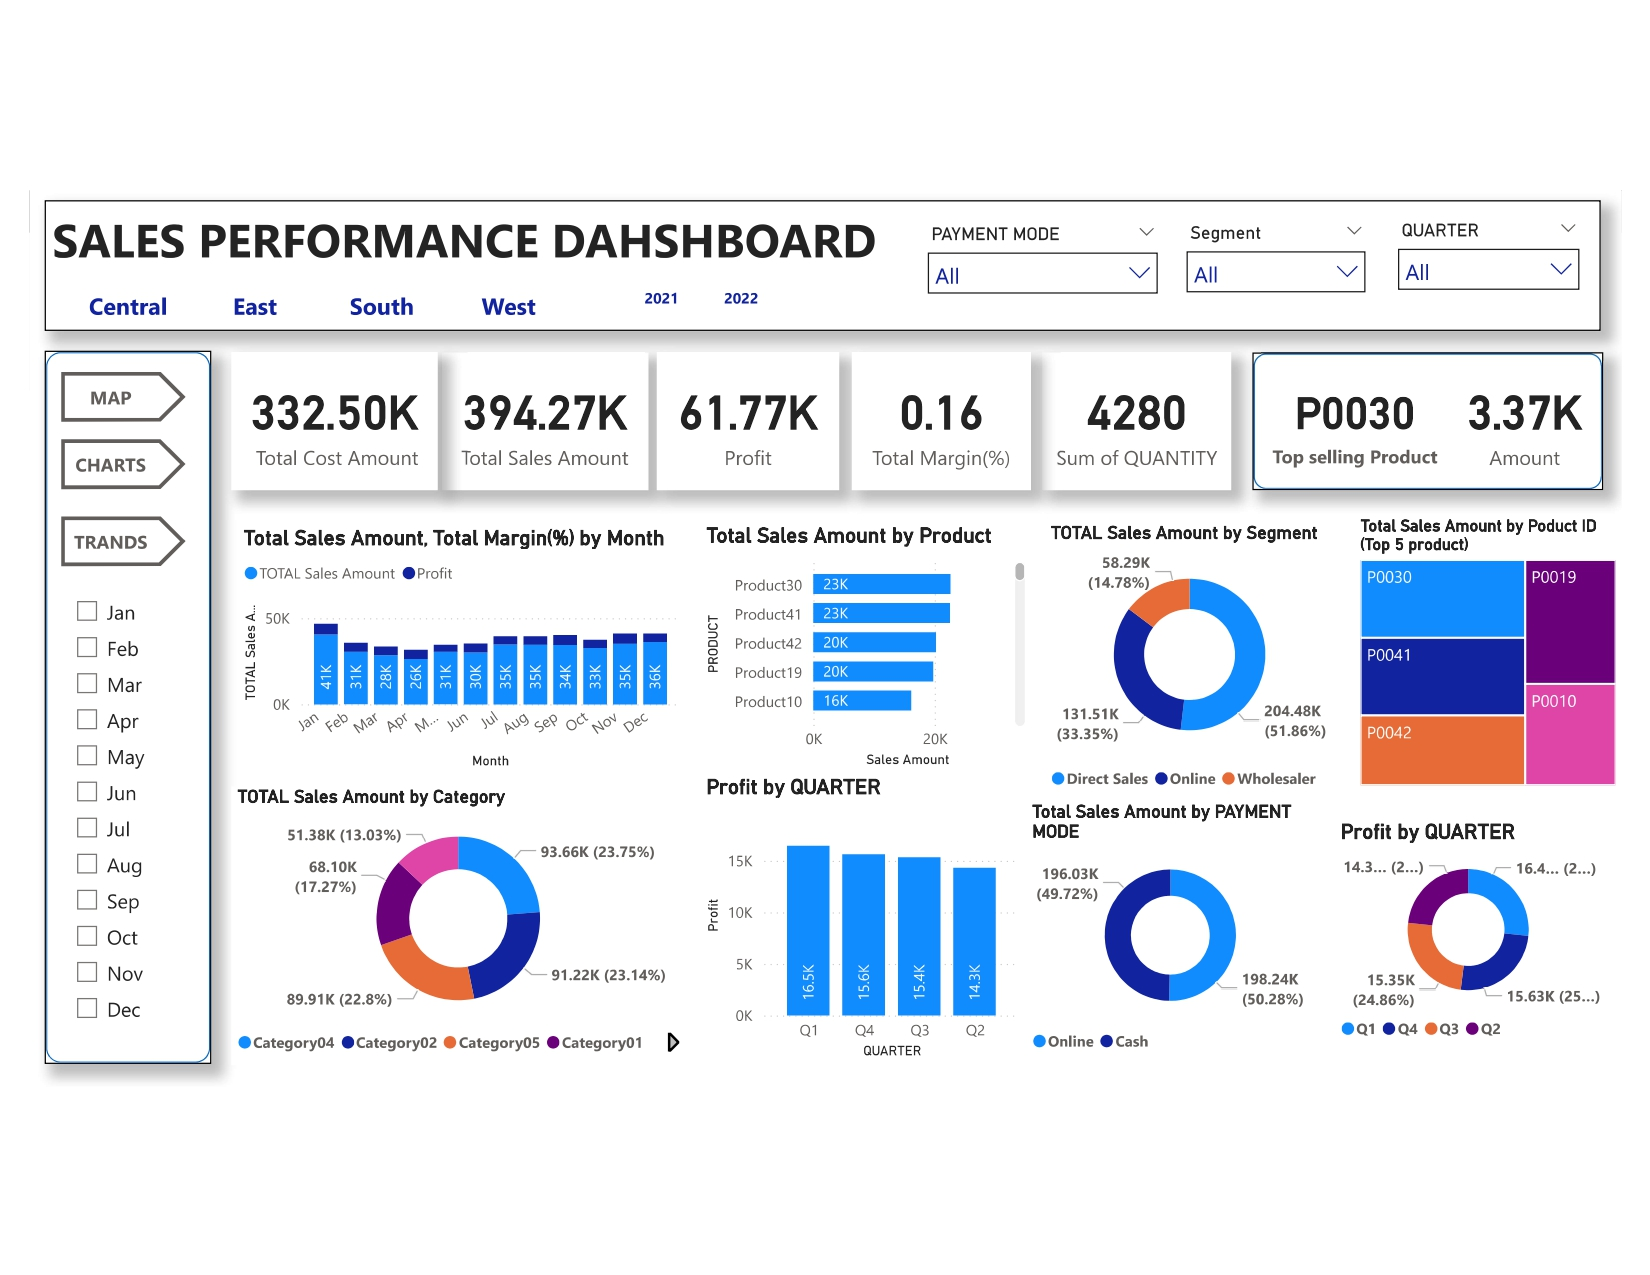

This screenshot's page, from the dashboard's own definition file:
{"tool":"powerbi","page":{"name":"CHARTS","canvas":[1280,720],"ordinal":0},"visuals":[{"type":"shape","box":[982.9,129.5,281.9,111.2],"z":0},{"type":"textbox","box":[11.8,8.4,1251.4,104.1],"z":1000},{"type":"shape","box":[11.8,129.3,134.4,572.8],"z":2000},{"type":"slicer","fields":{"Values":["InputData.REGION"]},"box":[3.4,68.9,455.2,47],"z":3000},{"type":"slicer","fields":{"Values":["InputData.Month Name"]},"box":[25.2,319.2,107.5,371.2],"z":4000},{"type":"slicer","fields":{"Values":["InputData.Segment"]},"box":[920.5,20.7,163.8,67.8],"z":5000},{"type":"slicer","fields":{"Values":["InputData.PAYMENT MODE"]},"box":[712.2,21.8,204.9,67.2],"z":6000},{"type":"slicer","fields":{"Values":["InputData.Year"]},"box":[451.1,59.8,176.3,50.8],"z":7000},{"type":"card","fields":{"Values":["Sum(InputData.TOTAL Sales Amount)"]},"box":[330.7,129.5,166.1,111.2],"z":8000},{"type":"card","fields":{"Values":["Sum(InputData.Total Cost Amount)"]},"box":[161.5,129.5,166.1,111.2],"z":9000},{"type":"card","fields":{"Values":["Sum(InputData.QUANTITY)"]},"box":[813.7,129.5,152.4,111.2],"z":10000},{"type":"card","fields":{"Values":["InputData.Profit"]},"box":[504.4,129.5,146.3,111.2],"z":11000},{"type":"card","fields":{"Values":["InputData.Total Margin(%)"]},"box":[661.3,129.5,143.2,111.2],"z":12000},{"type":"card","fields":{"Values":["Min(InputData.PRODUCT ID)"]},"box":[990.5,141.7,150.9,88.4],"z":13000},{"type":"card","fields":{"Values":["Sum(InputData.TOTAL Sales Amount)"]},"box":[1140.7,141.2,122.4,88.5],"z":14000},{"type":"columnChart","title":" Total Sales Amount, Total Margin(%) by Month","fields":{"Y":["Sum(InputData.TOTAL Sales Amount)","InputData.Profit"],"Category":["InputData.Month Name"]},"box":[167.3,268.9,360,200.2],"z":15000},{"type":"slicer","fields":{"Values":["InputData.QUARTER"]},"box":[1089.9,18.8,165.6,69.6],"z":16000},{"type":"barChart","title":" Total Sales Amount by Product","fields":{"Y":["Sum(InputData.TOTAL Sales Amount)"],"Category":["InputData.MasterData.PRODUCT"]},"box":[539.4,266.7,265.1,201.1],"z":17000},{"type":"donutChart","title":"TOTAL Sales Amount by Segment","fields":{"Category":["InputData.Segment"],"Y":["Sum(InputData.TOTAL Sales Amount)"]},"box":[815.6,267.4,233,224.1],"z":19000},{"type":"donutChart","title":"Total Sales Amount by PAYMENT MODE","fields":{"Y":["Sum(InputData.TOTAL Sales Amount)"],"Category":["InputData.PAYMENT MODE"]},"box":[800.8,490.8,232.2,211.6],"z":20000},{"type":"actionButton","box":[25,262.2,100.2,39.8],"z":21000},{"type":"actionButton","box":[25.4,200.2,100.1,40.3],"z":22000},{"type":"donutChart","fields":{"Y":["InputData.Profit"],"Category":["InputData.QUARTER"]},"box":[1048.6,504.9,215.1,186.7],"z":23000},{"type":"treemap","title":" Total Sales Amount by Poduct ID (Top 5 product)  ","fields":{"Group":["InputData.PRODUCT ID"],"Values":["Sum(InputData.TOTAL Sales Amount)"]},"box":[1065.3,261.6,214.5,221.9],"z":24000},{"type":"columnChart","fields":{"Category":["InputData.QUARTER"],"Y":["InputData.Profit"]},"box":[539,469,262,233],"z":25000},{"type":"actionButton","box":[25,145.8,100.2,39.8],"z":25001},{"type":"donutChart","title":"TOTAL Sales Amount by Category ","fields":{"Category":["InputData.MasterData.CATEGORY"],"Y":["Sum(InputData.TOTAL Sales Amount)"]},"box":[162,478.7,365.3,223.9],"z":25002}]}

Visuals, with their boxes on the page's 1280x720 design canvas (x1, y1, x2, y2). These are canvas units, not pixel positions in the 1650x1275 screenshot, which may show the page scaled, cropped or inside an application window:
shape: [983, 130, 1265, 241]
textbox: [12, 8, 1263, 112]
shape: [12, 129, 146, 702]
slicer - InputData.REGION: [3, 69, 459, 116]
slicer - InputData.Month Name: [25, 319, 133, 690]
slicer - InputData.Segment: [920, 21, 1084, 88]
slicer - InputData.PAYMENT MODE: [712, 22, 917, 89]
slicer - InputData.Year: [451, 60, 627, 111]
card - Sum(InputData.TOTAL Sales Amount): [331, 130, 497, 241]
card - Sum(InputData.Total Cost Amount): [162, 130, 328, 241]
card - Sum(InputData.QUANTITY): [814, 130, 966, 241]
card - InputData.Profit: [504, 130, 651, 241]
card - InputData.Total Margin(%): [661, 130, 804, 241]
card - Min(InputData.PRODUCT ID): [990, 142, 1141, 230]
card - Sum(InputData.TOTAL Sales Amount): [1141, 141, 1263, 230]
" Total Sales Amount, Total Margin(%) by Month" columnChart: [167, 269, 527, 469]
slicer - InputData.QUARTER: [1090, 19, 1256, 88]
" Total Sales Amount by Product" barChart: [539, 267, 804, 468]
"TOTAL Sales Amount by Segment" donutChart: [816, 267, 1049, 492]
"Total Sales Amount by PAYMENT MODE" donutChart: [801, 491, 1033, 702]
actionButton: [25, 262, 125, 302]
actionButton: [25, 200, 126, 240]
donutChart - InputData.Profit x InputData.QUARTER: [1049, 505, 1264, 692]
" Total Sales Amount by Poduct ID (Top 5 product)  " treemap: [1065, 262, 1280, 484]
columnChart - InputData.QUARTER x InputData.Profit: [539, 469, 801, 702]
actionButton: [25, 146, 125, 186]
"TOTAL Sales Amount by Category " donutChart: [162, 479, 527, 703]
